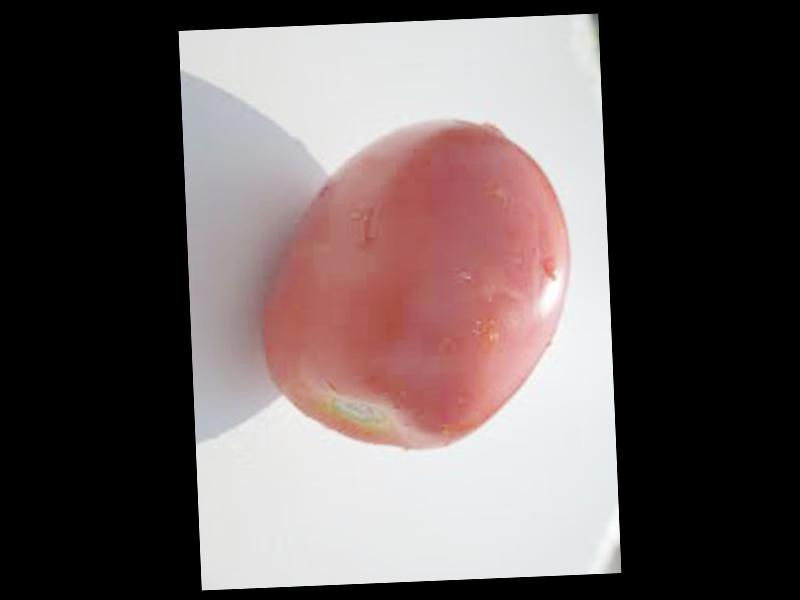Tomato: (255, 116, 578, 455)
